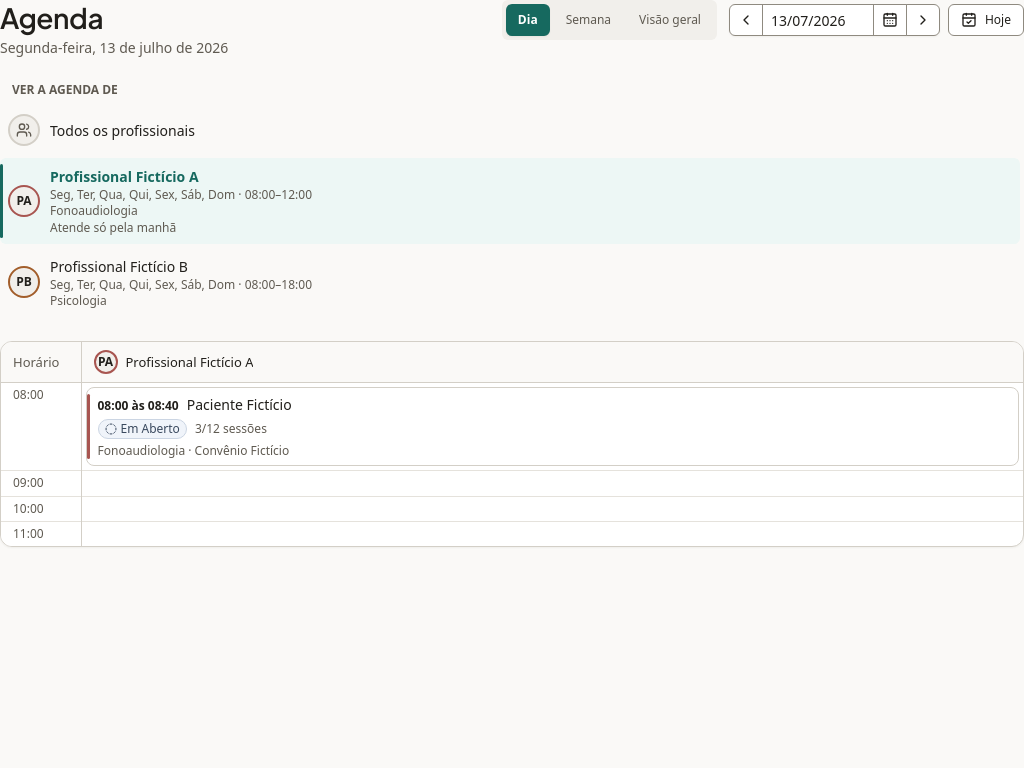
Test: Agenda — as portas que a permissão precisa ter › deve abrir o PAINEL DE LEITURA ao clicar no cartão, sem oferecer edição a quem não pode editar
Expected: the table is shown, [1, 342, 1023, 546]
Click the button "Paciente Fictício" at (239, 405), box [187, 394, 1010, 415]
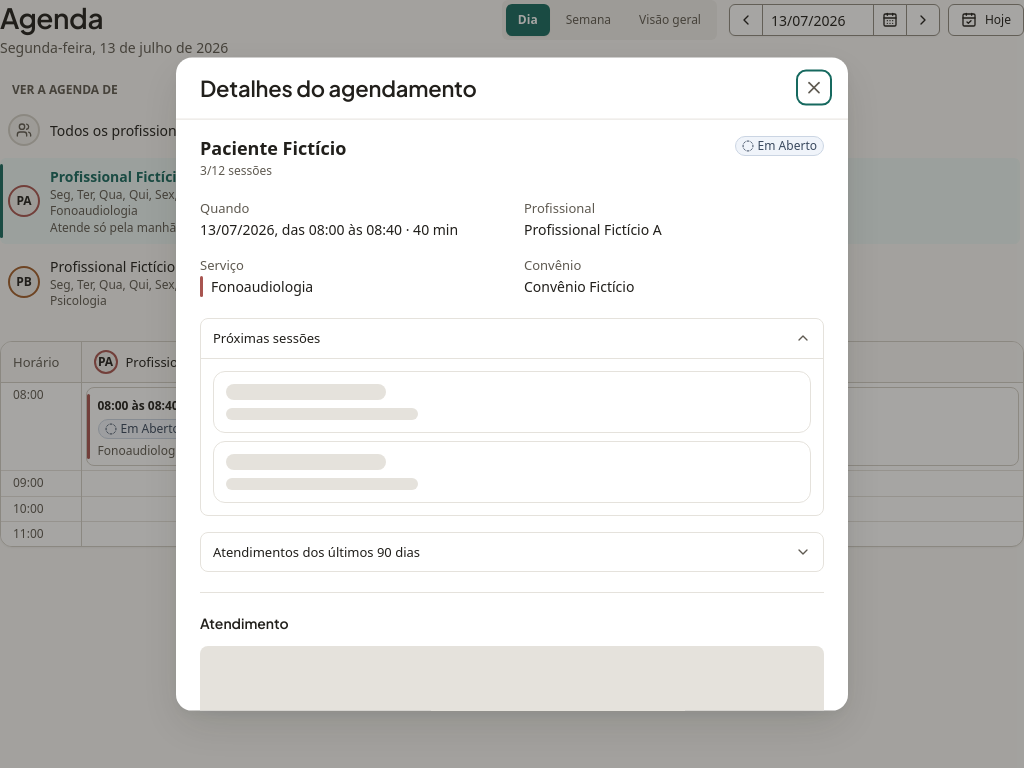
Expected: the heading "Detalhes do agendamento" is shown, [200, 74, 477, 102]
Expected: the button named "Fechar" is enabled
Click the button named "Fechar" at (814, 88), box [800, 74, 828, 102]
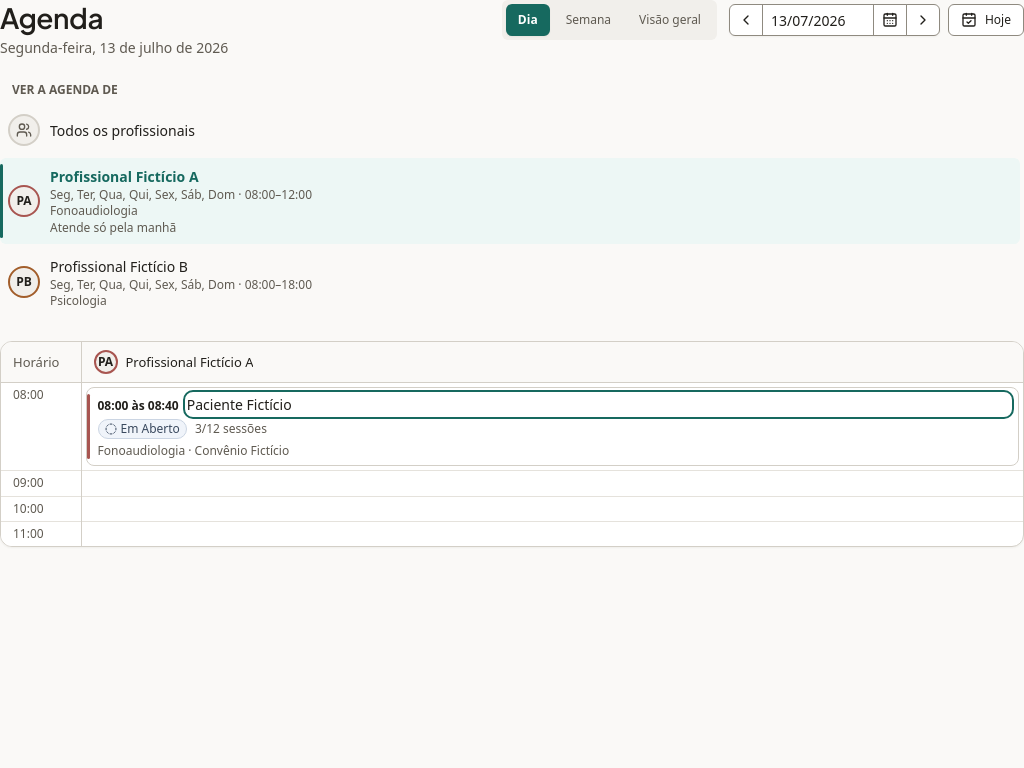
Expected: the dialog is gone
